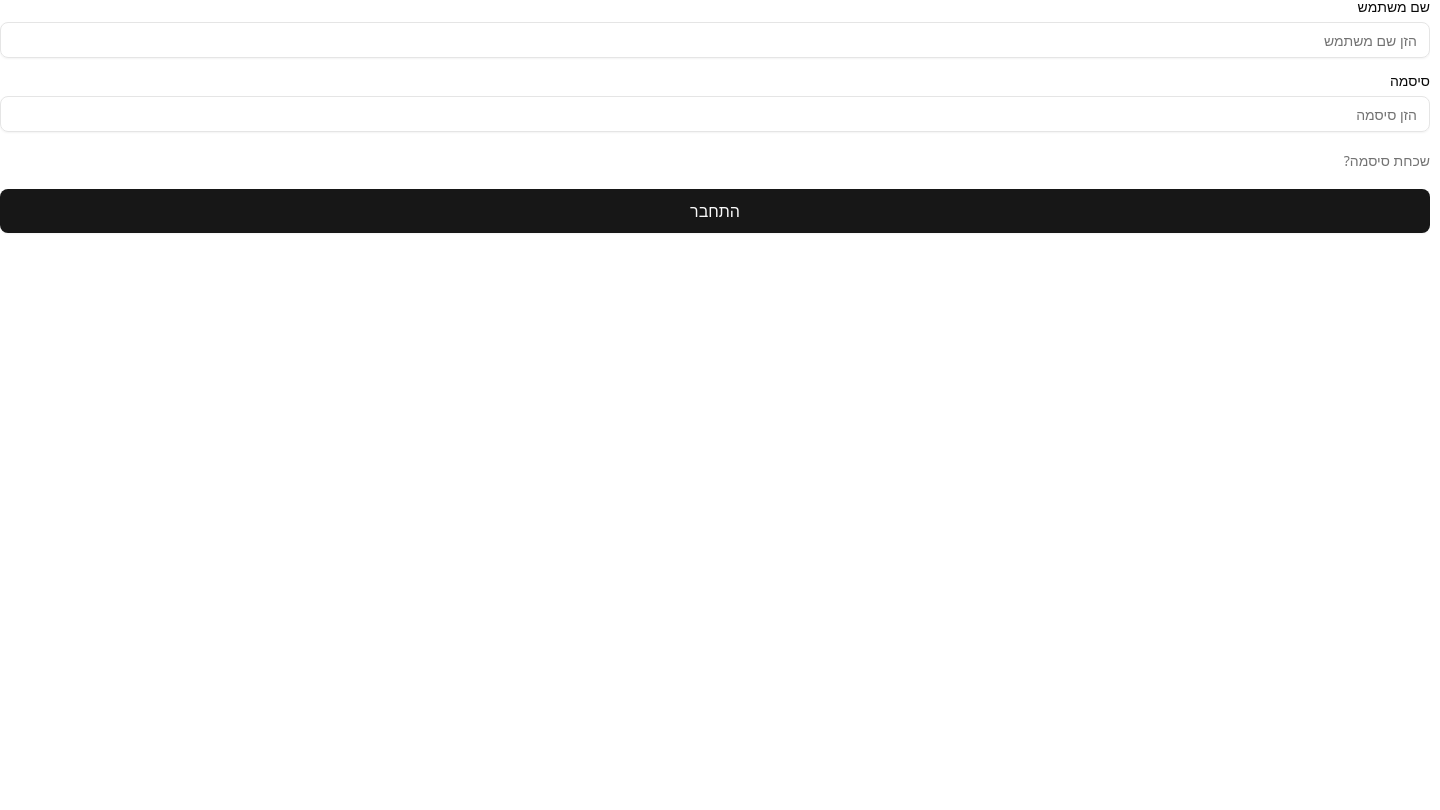
Test case: LoginForm forgot password prompt › opens an accessible username prompt before sending a reset request
Step 1. Click the button "שכחת סיסמה?" → coordinates (1387, 161), box [1344,141,1430,181]
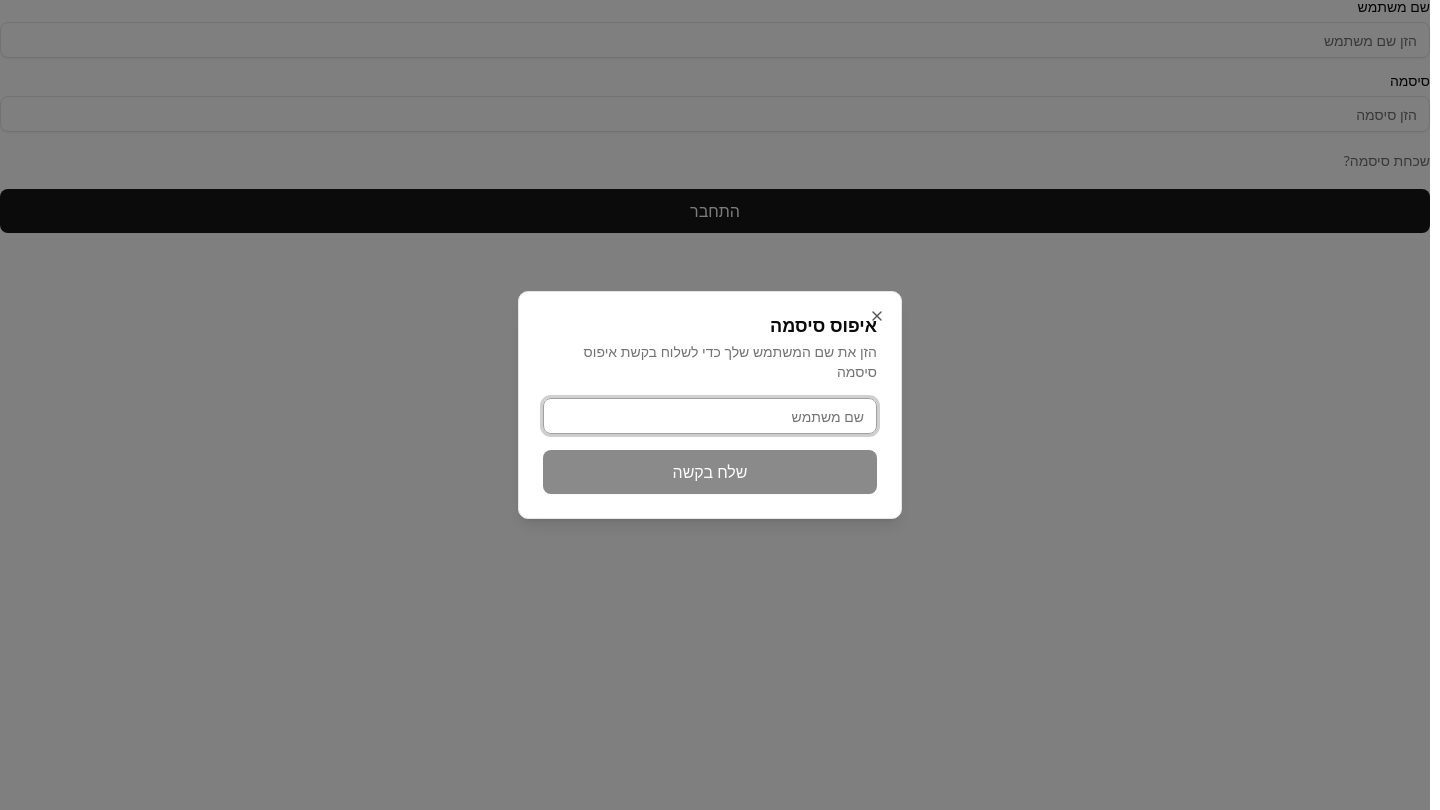
Expected: the dialog "איפוס סיסמה" is shown, [518,291,902,519]
Expected: the field with placeholder "שם משתמש" is shown, [543,398,877,434]
Expected: the button "שלח בקשה" is disabled, [543,450,877,494]
